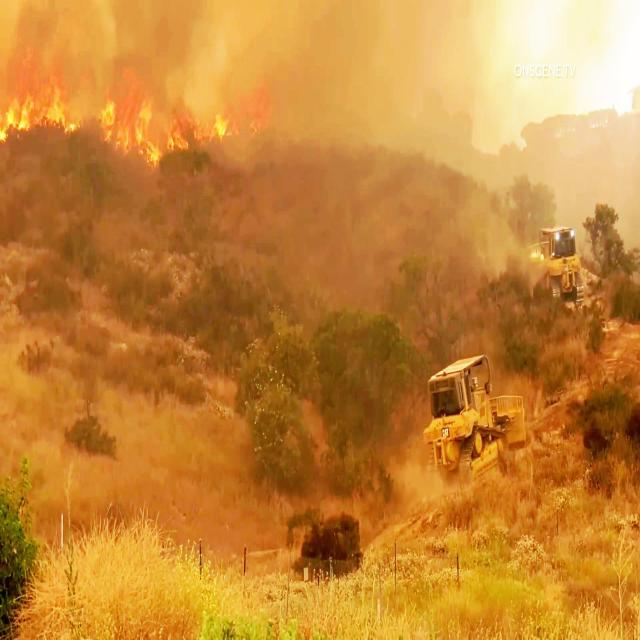Fire: (1, 84, 234, 178)
Smoke: (235, 0, 640, 207), (0, 0, 239, 111)
